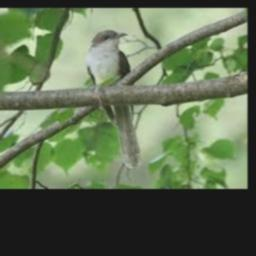Cuckoo: (86, 30, 140, 169)
